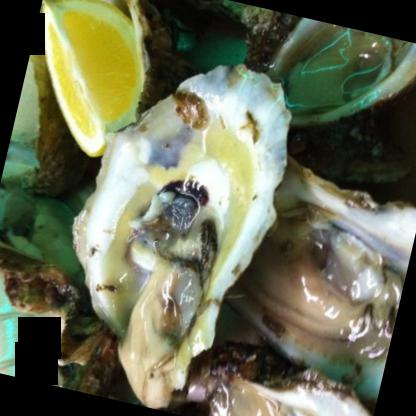lemon: (14, 0, 167, 152)
oyster: (53, 40, 295, 398), (241, 166, 415, 402), (253, 11, 415, 148), (206, 352, 380, 415)
